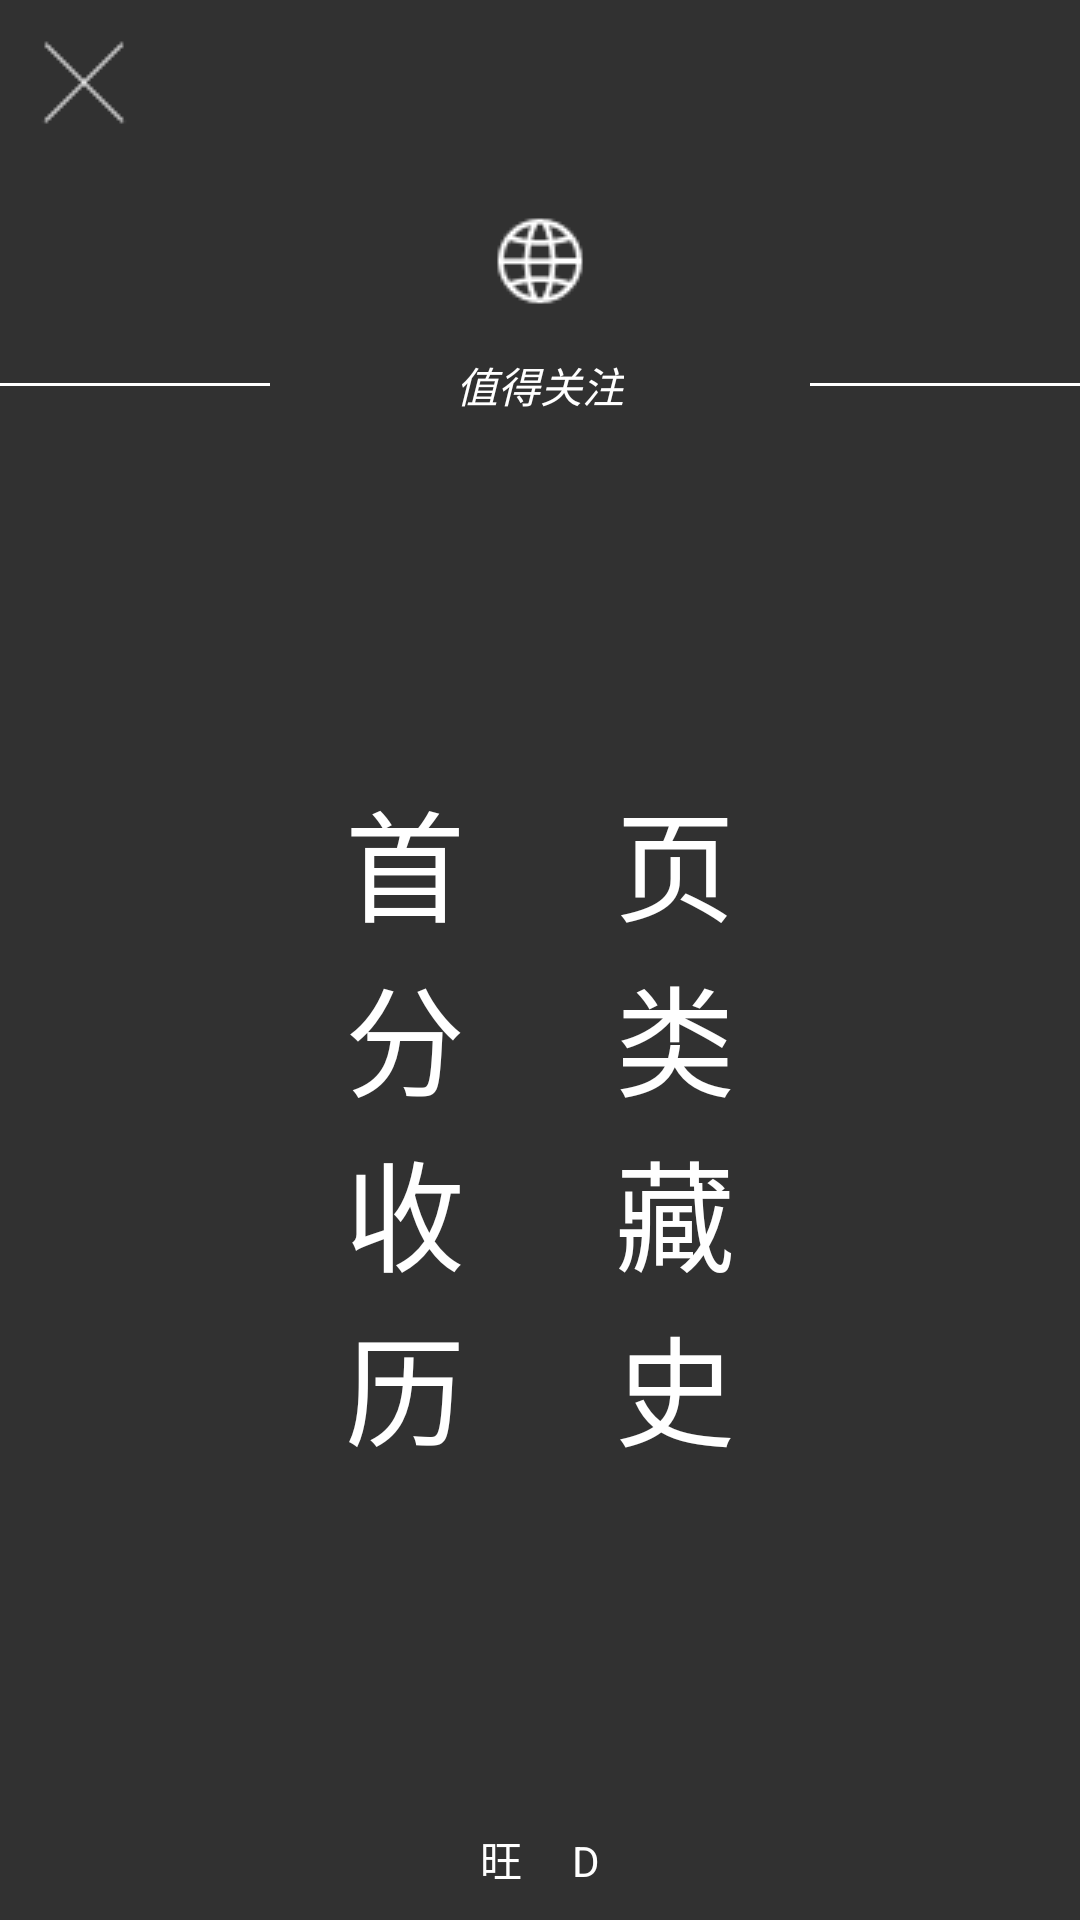

Screen size 1080w x 1920h. Icon name, then its center in pixels as [x,y]:
delete: [84,82]
